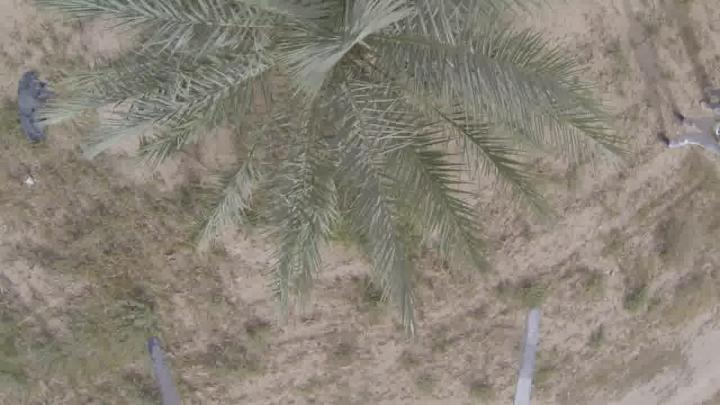Date-Palm-Crown: (135, 0, 513, 200)
